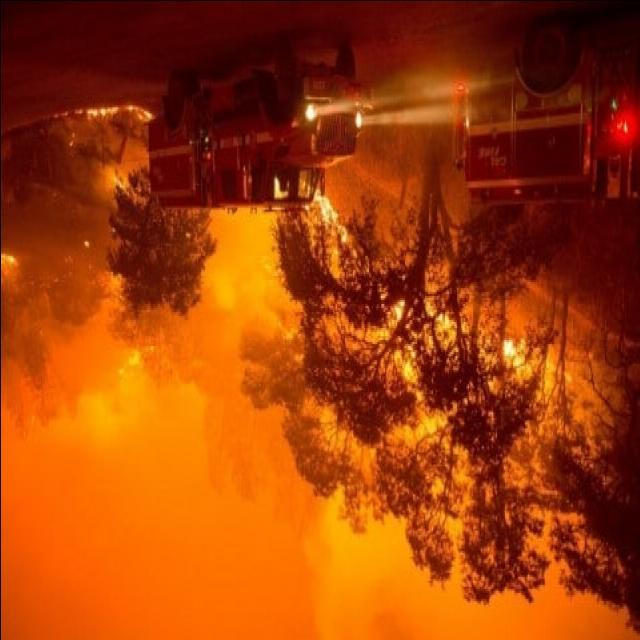Fire: (382, 295, 534, 385), (83, 102, 153, 203), (265, 168, 347, 242)
